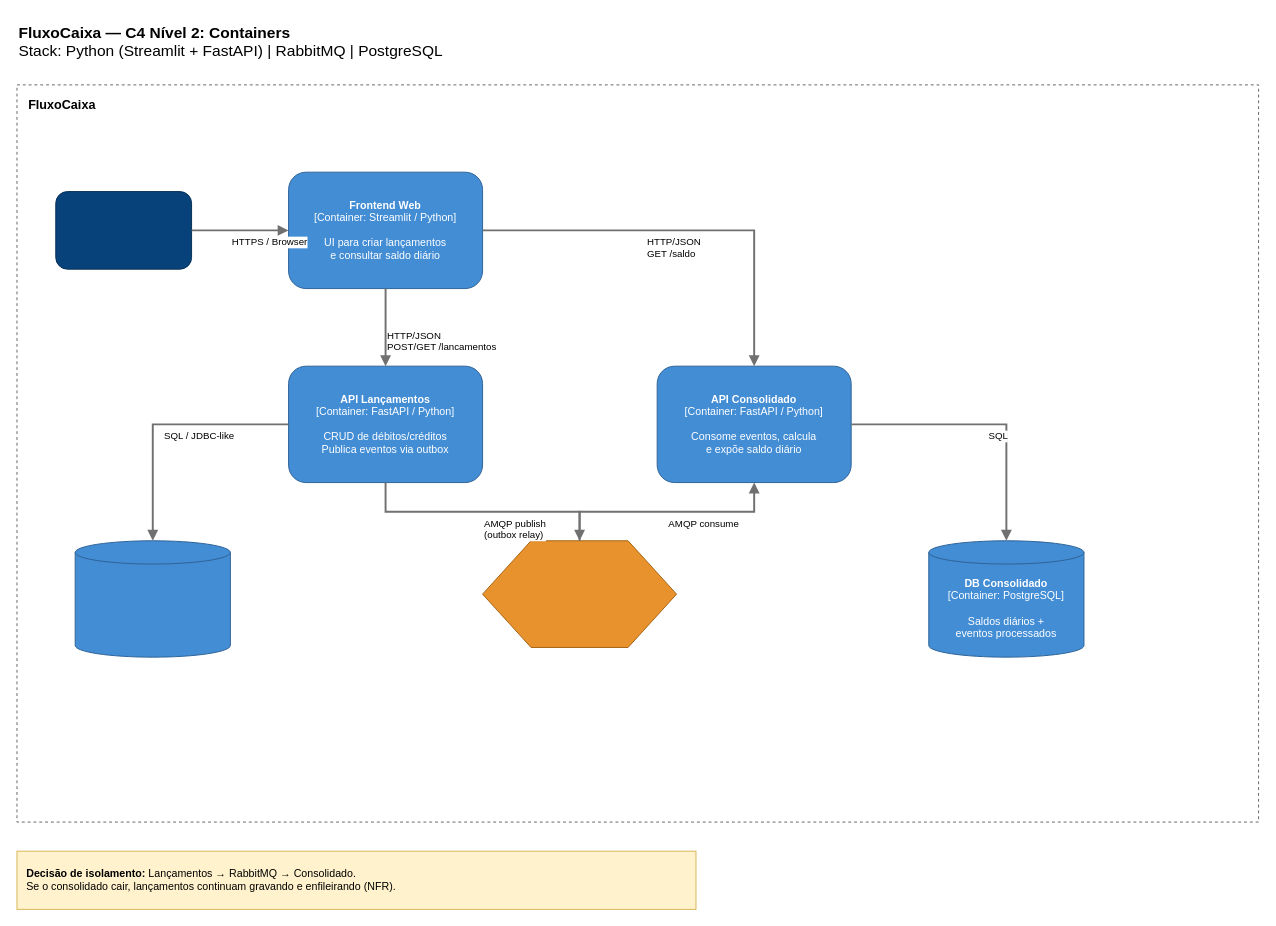
Some shapes in this 1276 by 926 pixel diagram are drawn without their labels. Here are the shapes that lost their labels. From the top down, the centre of each, then its label:
the point at 123,230: Comerciante [Pessoa]
the point at 152,598: DB Lançamentos [Container: PostgreSQL] Lançamentos + outbox
the point at 579,593: Message Broker [Container: RabbitMQ] Fila de eventos de lançamento (desacopla)
